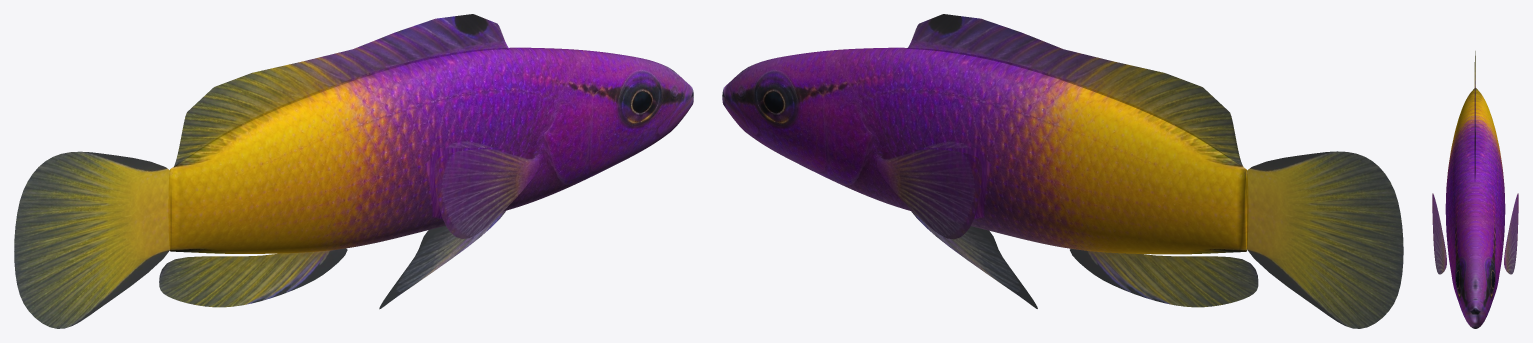
Rendered from gramma.glb.
The picture shows the model from 3 angles, left to right: view 1: azimuth 30°, elevation 25°; view 2: azimuth 150°, elevation 25°; view 3: azimuth 270°, elevation 25°; orthographic projection. The views are drawn at different scales.
Parts seen in each view (by area): view 1: gramma__body, gramma__fin_0, gramma__fin_1, gramma__fin_2, gramma__pectoral_1, gramma__gill_1, gramma__fin_3, gramma__eye_1; view 2: gramma__body, gramma__fin_0, gramma__fin_1, gramma__fin_2, gramma__pectoral_-1, gramma__gill_-1, gramma__fin_3, gramma__eye_-1; view 3: gramma__body, gramma__pectoral_1, gramma__pectoral_-1, gramma__fin_1, gramma__gill_1, gramma__gill_-1, gramma__eye_1, gramma__eye_-1.
Boxes of the visible parts, x1=… form: gramma__body: x1=170, y1=47, x2=693, y2=253; gramma__fin_0: x1=14, y1=151, x2=170, y2=328; gramma__fin_1: x1=173, y1=14, x2=509, y2=168; gramma__fin_2: x1=159, y1=248, x2=347, y2=307; gramma__pectoral_1: x1=434, y1=149, x2=539, y2=238; gramma__gill_1: x1=555, y1=88, x2=609, y2=188; gramma__fin_3: x1=379, y1=211, x2=505, y2=309; gramma__eye_1: x1=627, y1=83, x2=655, y2=120; gramma__body: x1=722, y1=47, x2=1246, y2=254; gramma__fin_0: x1=1246, y1=151, x2=1403, y2=328; gramma__fin_1: x1=907, y1=14, x2=1243, y2=166; gramma__fin_2: x1=1070, y1=248, x2=1258, y2=307; gramma__pectoral_-1: x1=876, y1=149, x2=981, y2=239; gramma__gill_-1: x1=807, y1=88, x2=861, y2=189; gramma__fin_3: x1=911, y1=211, x2=1037, y2=308; gramma__eye_-1: x1=760, y1=84, x2=789, y2=120; gramma__body: x1=1445, y1=88, x2=1505, y2=328; gramma__pectoral_1: x1=1432, y1=193, x2=1446, y2=274; gramma__pectoral_-1: x1=1504, y1=193, x2=1518, y2=274; gramma__fin_1: x1=1474, y1=51, x2=1475, y2=181; gramma__gill_1: x1=1450, y1=230, x2=1456, y2=296; gramma__gill_-1: x1=1494, y1=230, x2=1500, y2=296; gramma__eye_1: x1=1456, y1=266, x2=1461, y2=293; gramma__eye_-1: x1=1489, y1=266, x2=1494, y2=293.
Bounding box in the file's own units: 1.3 × 0.5071 × 0.1946.
Materials: 3 (3 with a texture image).
